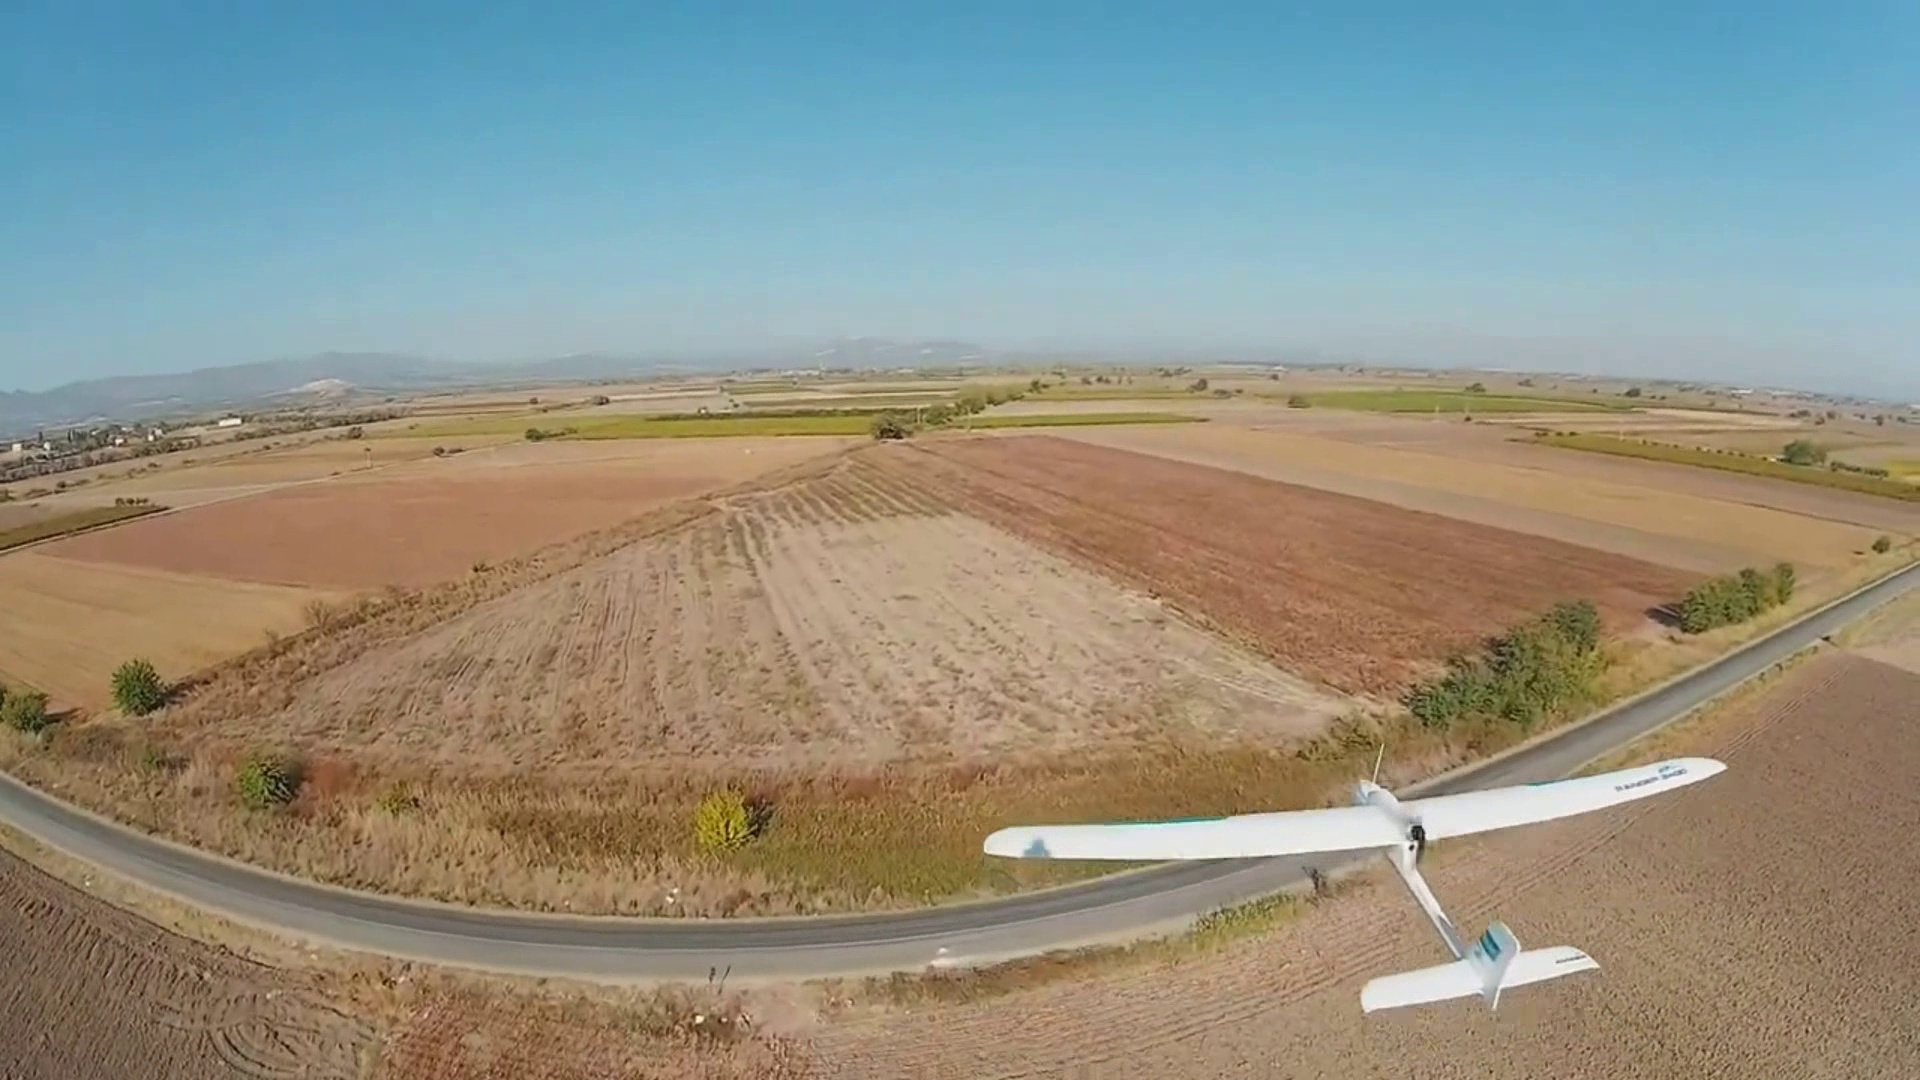airplane: (973, 554, 1919, 1009)
